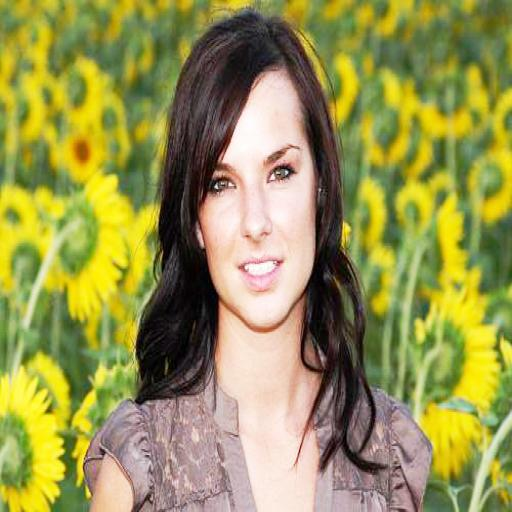sunflower: (419, 275, 501, 474), (59, 174, 124, 315)
